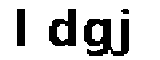d: (44, 5, 79, 51)
g: (79, 14, 112, 58)
j: (112, 6, 143, 59)
l: (10, 6, 36, 52)
